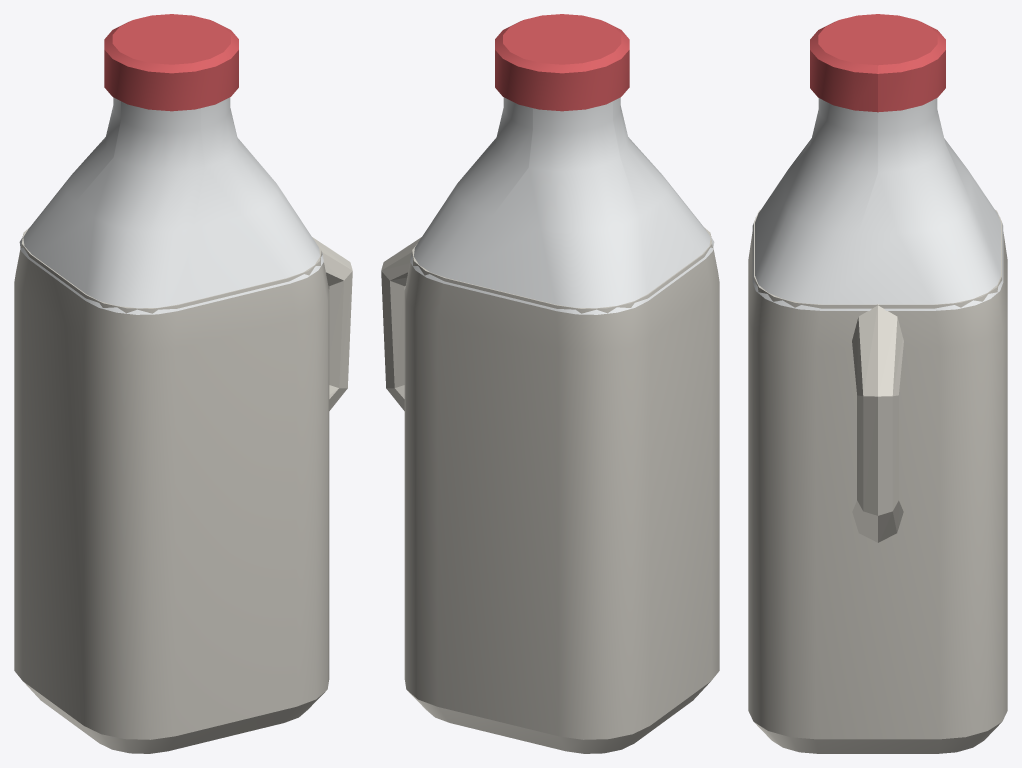
The model's file is fresh-produce-and-groceries-milk-bottle-cc9d2c0b__24390.glb.
3 renders of one model, left to right at view 1: azimuth 30°, elevation 25°; view 2: azimuth 150°, elevation 25°; view 3: azimuth 270°, elevation 25°, orthographic.
Visible parts, largest first — view 1: milk-bottle; view 2: milk-bottle; view 3: milk-bottle.
Boxes of the visible parts, x1,y1,x2,y2 form: milk-bottle: (14,14,352,753); milk-bottle: (381,14,719,753); milk-bottle: (748,14,1007,753).
Size of the model in its own units: 0.1229 by 0.26 by 0.092.
